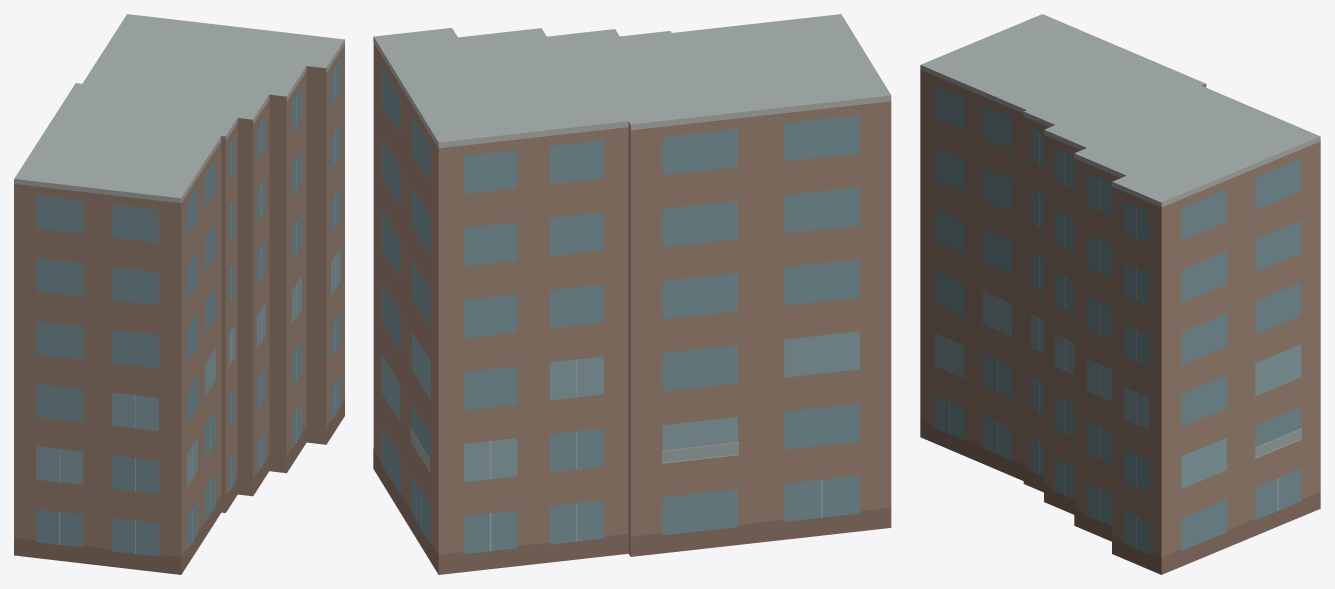
Rendered from survey-upis-32922147.glb.
The picture shows the model from 3 angles, left to right: view 1: azimuth 30°, elevation 25°; view 2: azimuth 150°, elevation 25°; view 3: azimuth 270°, elevation 25°; orthographic projection. The views are drawn at different scales.
Visible parts, largest first — view 1: survey-upis-32922147.tmp; view 2: survey-upis-32922147.tmp; view 3: survey-upis-32922147.tmp.
Part boxes in pixels (<box>): survey-upis-32922147.tmp: <box>14,14,344,574</box>; survey-upis-32922147.tmp: <box>373,14,891,574</box>; survey-upis-32922147.tmp: <box>920,14,1320,574</box>.
Bounding box in the file's own units: 19.89 × 18.3 × 17.84.
